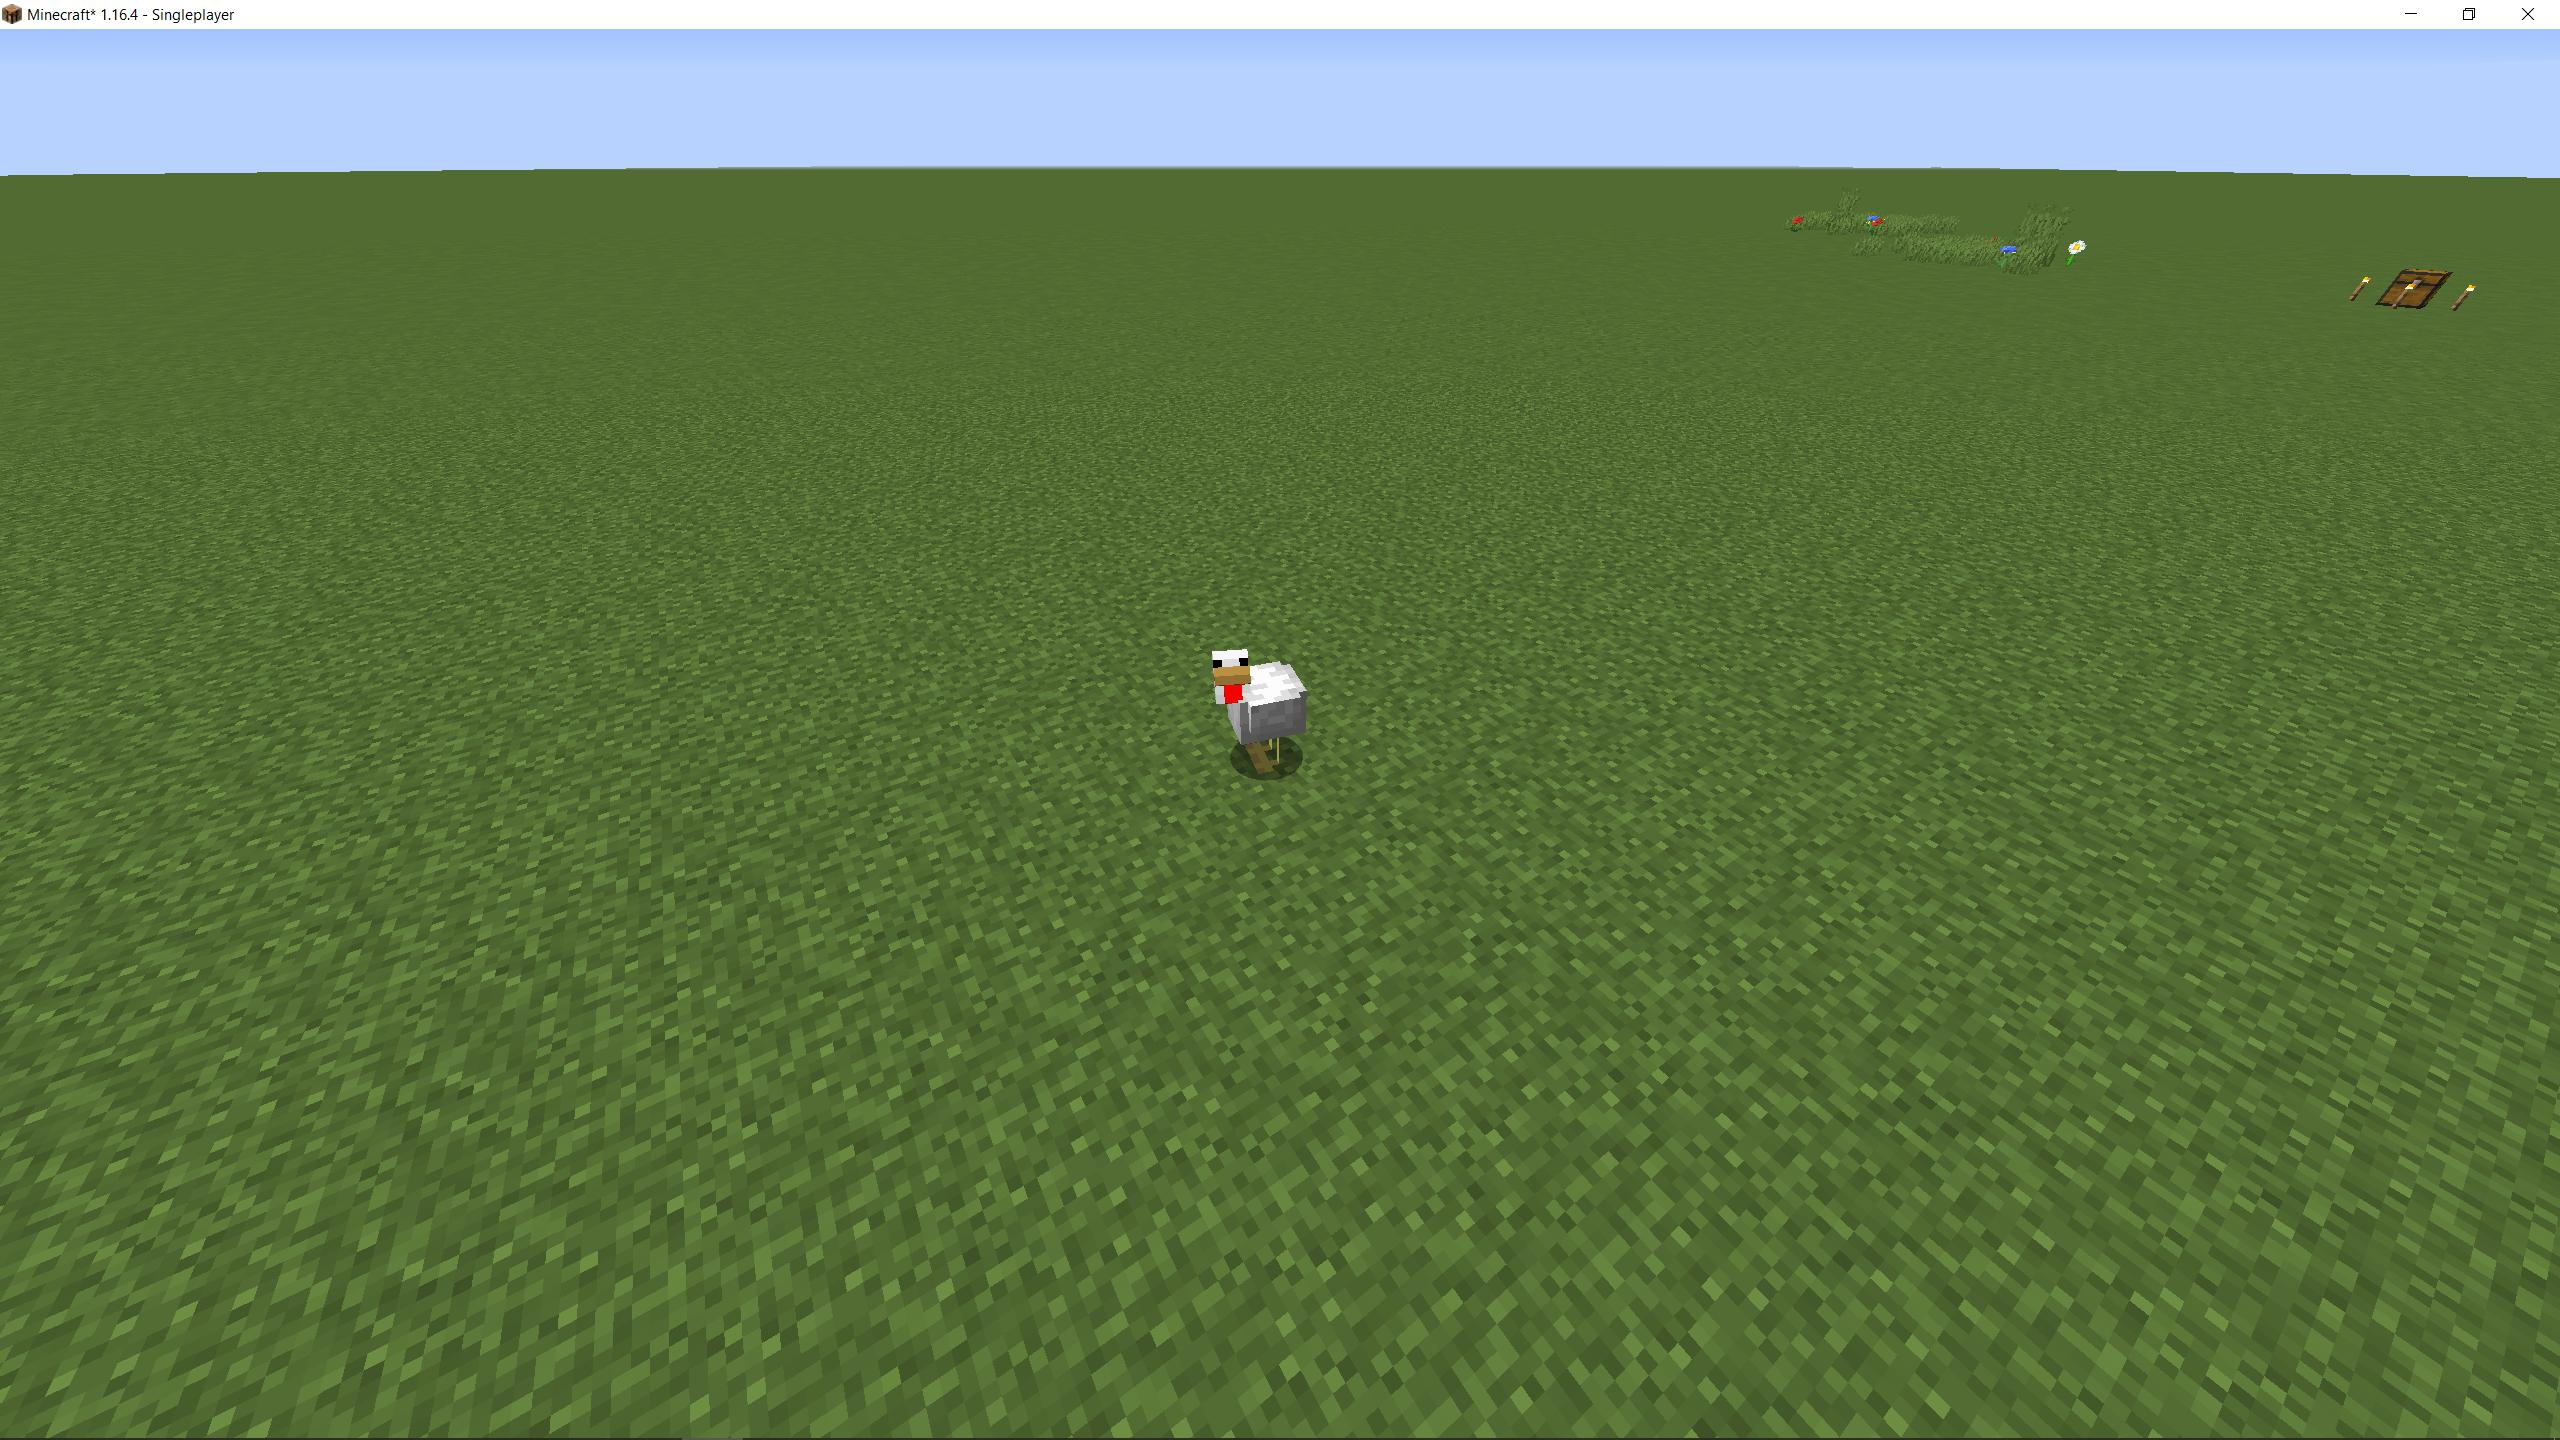chicken: (1204, 638, 1315, 781)
